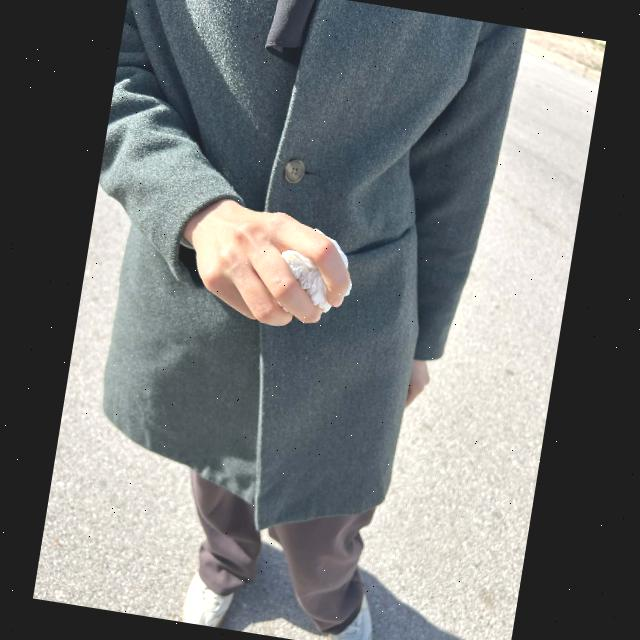trash: (268, 219, 362, 322)
